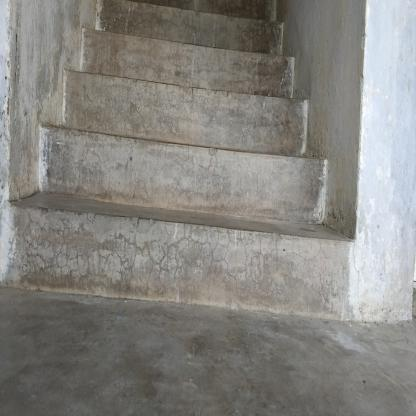stairs: (63, 68, 322, 325)
